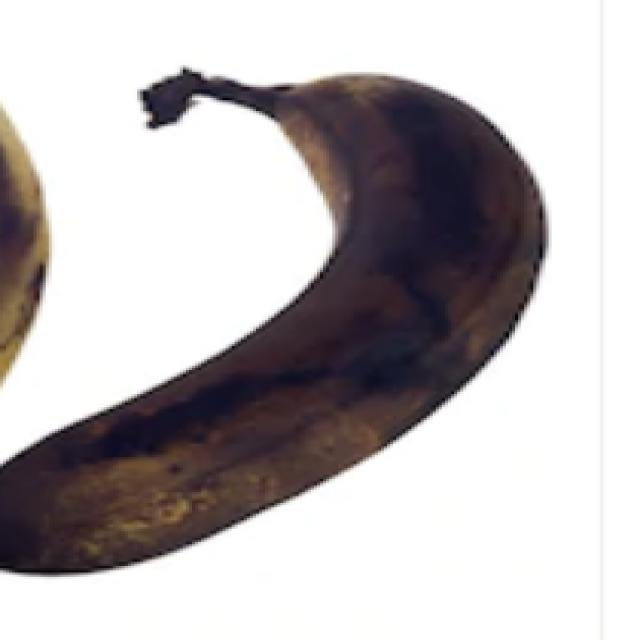rotten-banana: (0, 63, 549, 575)
